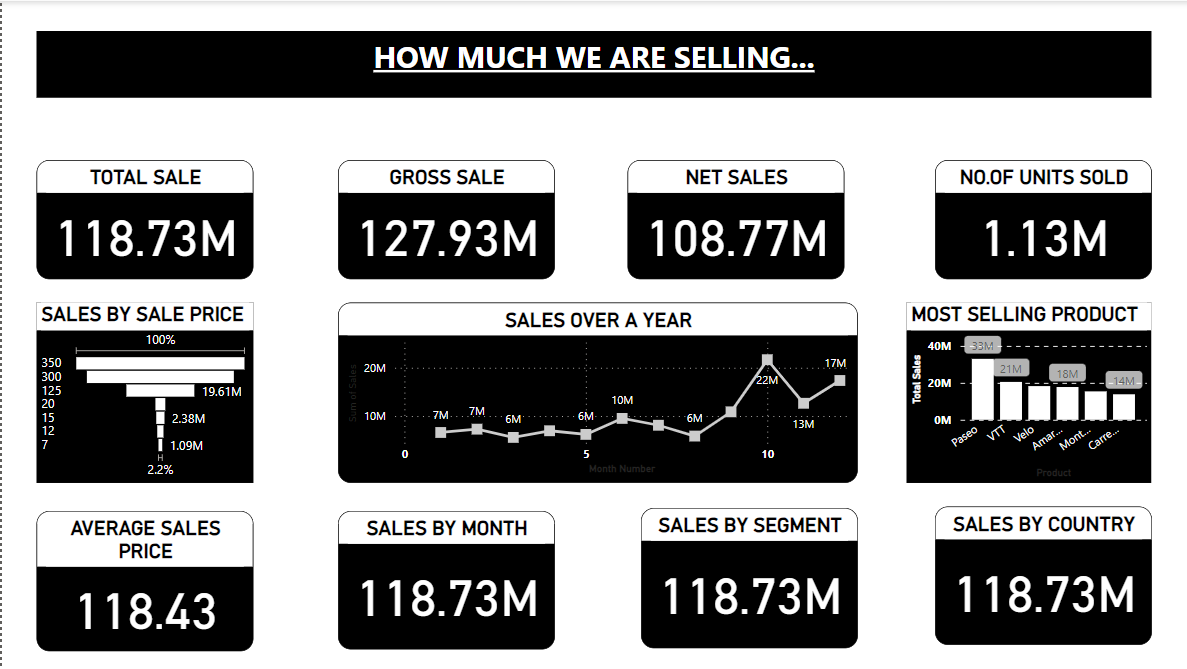

The dashboard page shown, as its layout file describes it:
{"tool":"powerbi","page":{"name":"Sales ","canvas":[1280,720],"ordinal":1},"visuals":[{"type":"card","title":"TOTAL SALE","fields":{"Values":["financial sample dataset.Total Sales"]},"box":[37.8,171.8,234.1,128.4],"z":0},{"type":"card","title":"GROSS SALE","fields":{"Values":["financial sample dataset.Total Gross Sales"]},"box":[362.5,171.8,234.1,128.4],"z":1000},{"type":"card","title":"NET SALES","fields":{"Values":["financial sample dataset.Net Sales"]},"box":[674,171.8,234.1,128.4],"z":2000},{"type":"card","title":"NO.OF UNITS SOLD","fields":{"Values":["financial sample dataset.Total No.of Units Sold"]},"box":[1006.3,171.8,234.1,128.4],"z":3000},{"type":"card","title":"AVERAGE SALES PRICE","fields":{"Values":["financial sample dataset.Average Sales Price"]},"box":[37.8,549.4,234.1,151],"z":4000},{"type":"card","title":"SALES BY MONTH","fields":{"Values":["financial sample dataset.Total Sales by Month"]},"box":[362.5,549.4,234.1,149.1],"z":5000},{"type":"card","title":"SALES BY SEGMENT","fields":{"Values":["financial sample dataset.Total Sales by Segment"]},"box":[689.1,547.5,234.1,151],"z":6000},{"type":"card","title":"SALES BY COUNTRY","fields":{"Values":["financial sample dataset.Total Sales by Country"]},"box":[1006.3,545.6,234.1,149.1],"z":7000},{"type":"lineChart","title":"SALES OVER A YEAR","fields":{"Y":["Sum(financial sample dataset.  Sales )"],"Category":["financial sample dataset.Month Number"]},"box":[362.5,324.7,560.7,194.5],"z":8000},{"type":"lineClusteredColumnComboChart","title":" MOST SELLING PRODUCT","fields":{"Category":["financial sample dataset. Product "],"Y":["financial sample dataset.Total Sales"]},"box":[976,324.7,264.3,194.5],"z":9000},{"type":"funnel","title":"SALES BY SALE PRICE","fields":{"Y":["Sum(financial sample dataset.  Sales )"],"Category":["financial sample dataset. Sale Price "]},"box":[37.8,324.7,234.1,194.5],"z":10000},{"type":"textbox","box":[37.8,32.1,1202.6,71.7],"z":11000}]}

Visuals, with their boxes in screenshot pixels (x1, y1, x2, y2), scaled from the page's 1280x720 canvas onto the 1187x669 screenshot:
"TOTAL SALE" card: [35, 160, 252, 279]
"GROSS SALE" card: [336, 160, 553, 279]
"NET SALES" card: [625, 160, 842, 279]
"NO.OF UNITS SOLD" card: [933, 160, 1150, 279]
"AVERAGE SALES PRICE" card: [35, 510, 252, 651]
"SALES BY MONTH" card: [336, 510, 553, 649]
"SALES BY SEGMENT" card: [639, 509, 856, 649]
"SALES BY COUNTRY" card: [933, 507, 1150, 645]
"SALES OVER A YEAR" lineChart: [336, 302, 856, 482]
" MOST SELLING PRODUCT" lineClusteredColumnComboChart: [905, 302, 1150, 482]
"SALES BY SALE PRICE" funnel: [35, 302, 252, 482]
textbox: [35, 30, 1150, 96]
